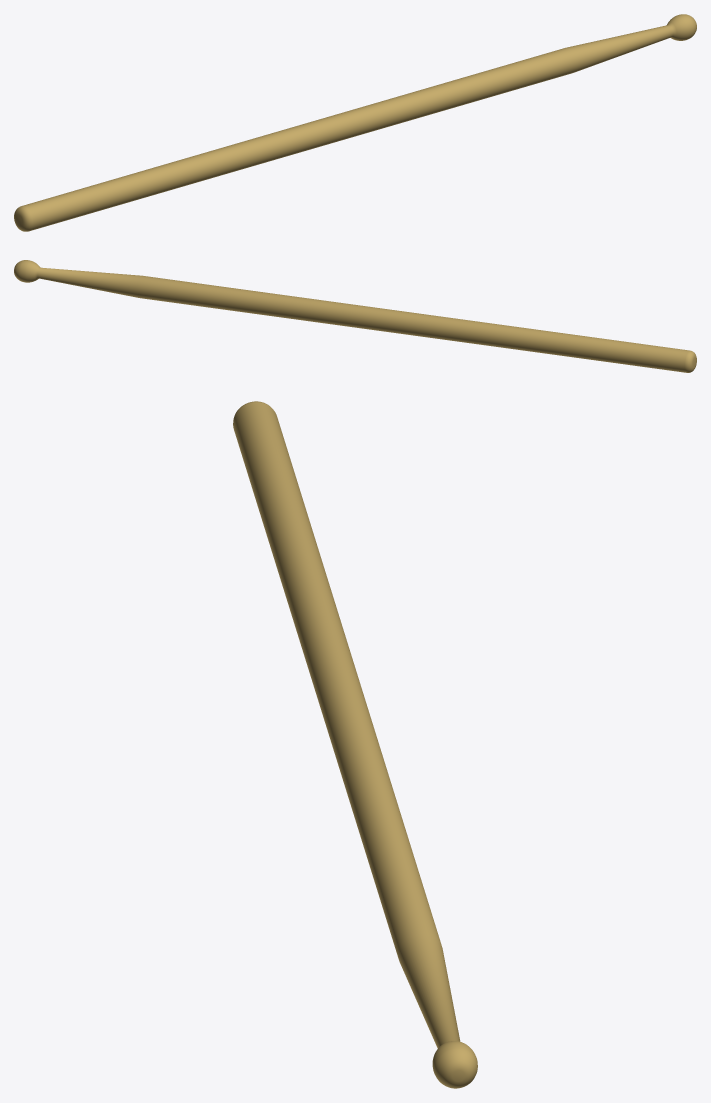
File: stick1.glb
3 views of the same model, one above another, from view 1: azimuth 30°, elevation 25°; view 2: azimuth 150°, elevation 25°; view 3: azimuth 270°, elevation 25° (orthographic). The views are drawn at different scales.
Visible parts, largest first — view 1: stick1; view 2: stick1; view 3: stick1.
Part boxes in pixels (left/top/right/bottom): stick1: left=14, top=14, right=696, bottom=231; stick1: left=14, top=260, right=696, bottom=372; stick1: left=233, top=401, right=477, bottom=1088.
Bounding box in the file's own units: 1.64 × 0.1063 × 0.2758.
